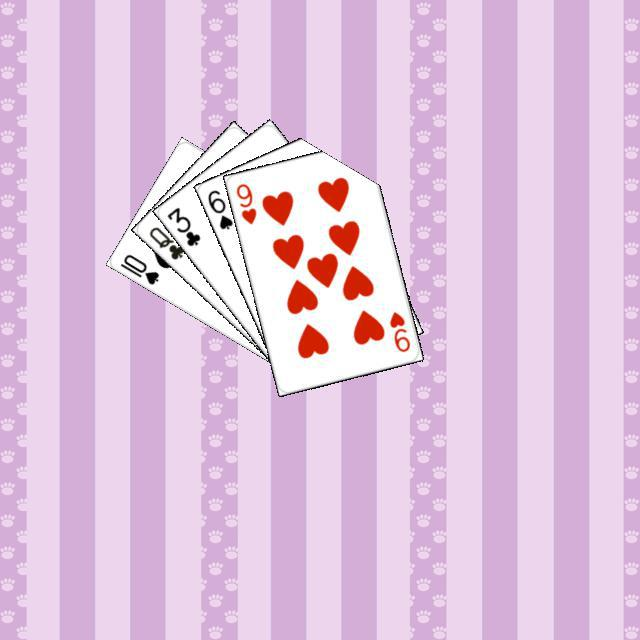10s: (115, 249, 161, 287)
3c: (162, 202, 202, 248)
6s: (202, 185, 234, 231)
9h: (385, 306, 412, 354), (231, 179, 258, 226)
Qc: (144, 219, 194, 261)
